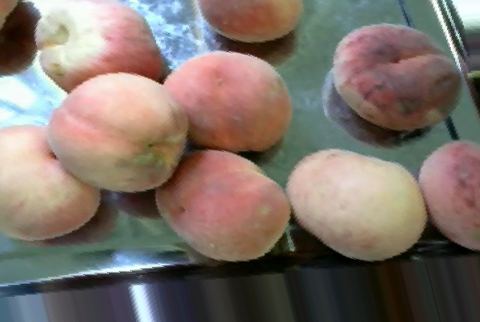Peach: (50, 73, 184, 190), (288, 149, 424, 260), (157, 149, 287, 259), (331, 22, 461, 130), (165, 50, 290, 153), (34, 0, 161, 100), (415, 141, 479, 248), (194, 3, 306, 40)
